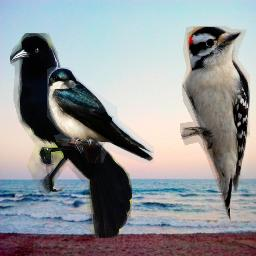Crow: (10, 33, 132, 238)
Swallow: (47, 67, 154, 163)
Woodpecker: (180, 26, 250, 221)
